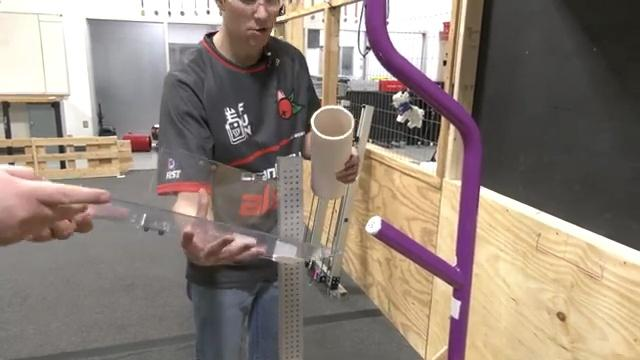CORAL: (308, 103, 355, 200)
